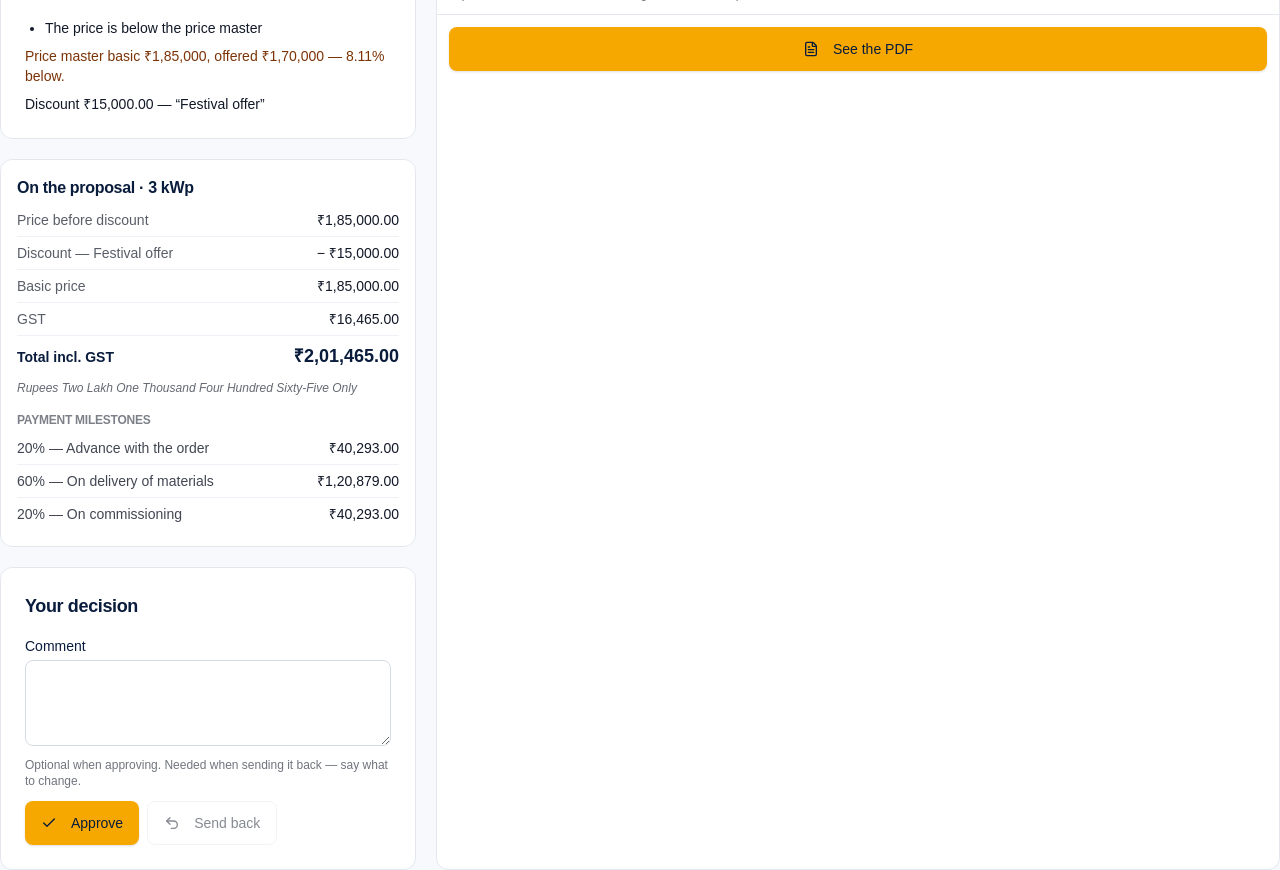
it: approval review (studio.approve, maker ≠ checker) › a maker_checker refusal from the server is shown in words
(page scrolled)
Click the button with test id "approve": (82, 822) left=25, top=800, right=139, bottom=844
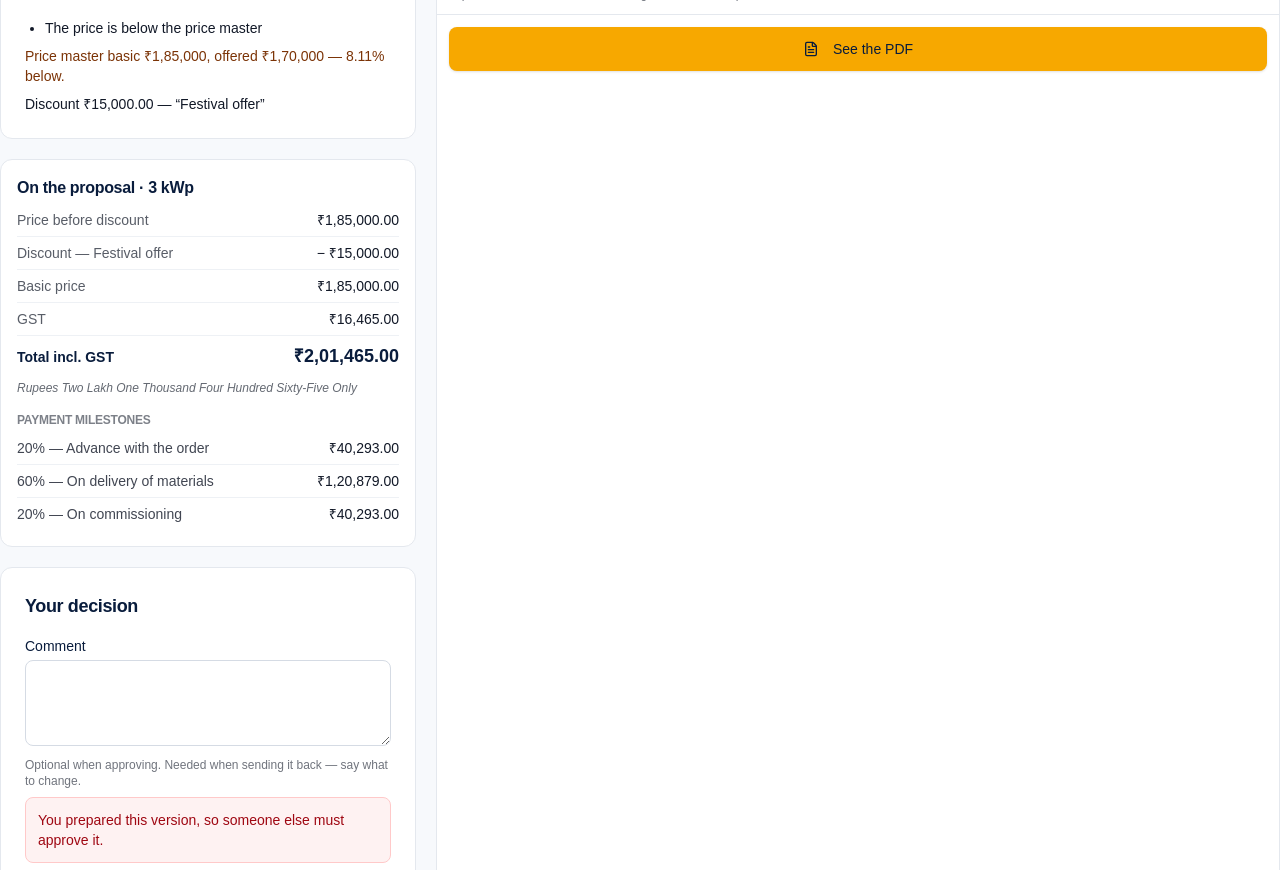
Result: the text "You prepared this version, so someone else must approve it." is shown at left=25, top=796, right=391, bottom=862
